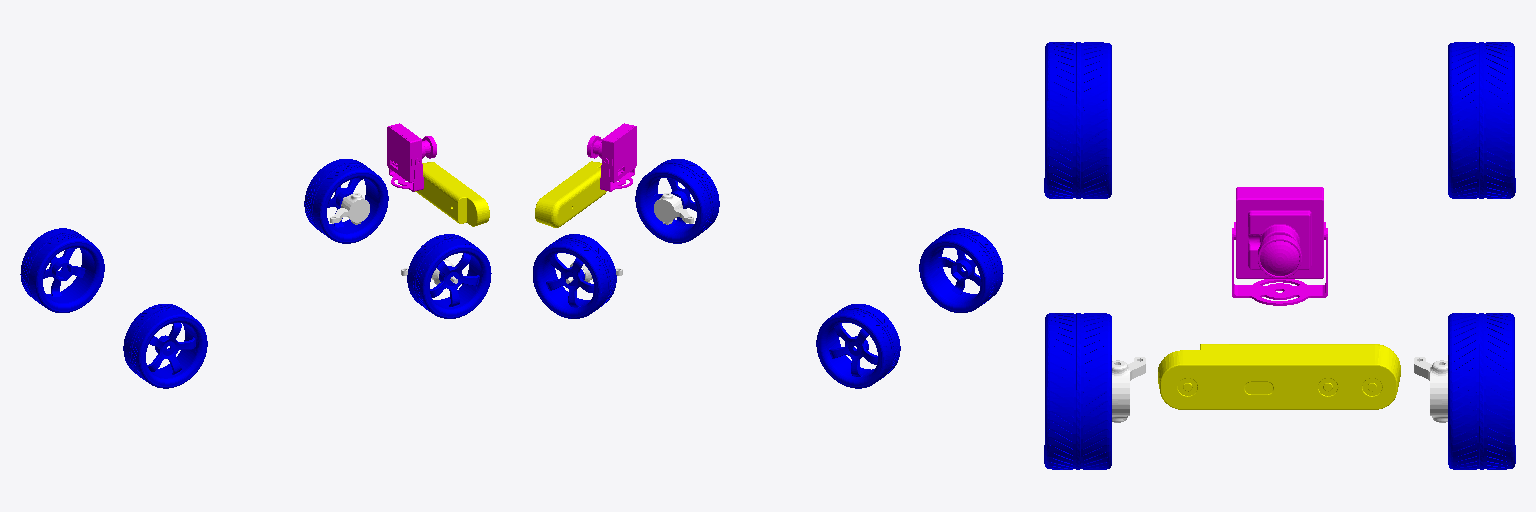
URDF robot description (tianracer_description):
<?xml version="1.0" encoding="utf-8"?>
<!-- This URDF was automatically created by SolidWorks to URDF Exporter! Originally created by [author] ([email redacted]) 
     Commit Version: 1.5.1-0-g916b5db  Build Version: 1.5.7152.31018
     For more information, please see http://wiki.ros.org/sw_urdf_exporter -->
<robot
  name="tianracer_description">
  <link
    name="base_footprint">
  </link>
  <joint name="base_footprint_to_base_link" type="fixed">
    <parent link="base_footprint" />
    <child link="base_link" />
    <origin xyz="0 0 0.0315" rpy="0 0 0"/>
  </joint>
  
  <link
    name="base_link">
    <inertial>
      <origin
        xyz="0.15109 0.0014408 0.0090037"
        rpy="0 0 0" />
      <mass
        value="1.0055" />
      <inertia
        ixx="0.00079171"
        ixy="-2.085E-06"
        ixz="-2.3714E-06"
        iyy="0.0017653"
        iyz="-2.5765E-06"
        izz="0.0022712" />
    </inertial>
    <visual>
      <origin
        xyz="0 0 0"
        rpy="0 0 0" />
      <geometry>
        <mesh
          filename="package://tianracer_description/meshes/base_link.STL" />
      </geometry>
      <material
        name="">
        <color
          rgba="0.2 0.2 0.2 1." />
      </material>
    </visual>
    <collision>
      <origin
        xyz="0 0 0"
        rpy="0 0 0" />
      <geometry>
        <mesh
          filename="package://tianracer_description/meshes/base_link.STL" />
      </geometry>
    </collision>
  </link>

  <link
    name="imu_link">
  </link>
  <joint name="base_link_to_imu" type="fixed">
    <parent link="base_link" />
    <child link="imu_link" />
    <origin xyz="0.22 0 0.1" rpy="0 0 0"/>
  </joint>


  <link
    name="left_steering_hinge">
    <inertial>
      <origin
        xyz="-0.0014513 0.003924 2.0468E-05"
        rpy="0 0 0" />
      <mass
        value="0.0061423" />
      <inertia
        ixx="4.3339E-07"
        ixy="-8.0888E-08"
        ixz="-4.2207E-10"
        iyy="4.2046E-07"
        iyz="-7.7599E-10"
        izz="5.6934E-07" />
    </inertial>
    <visual>
      <origin
        xyz="0 0 0"
        rpy="0 0 0" />
      <geometry>
        <mesh
          filename="package://tianracer_description/meshes/left_steering_hinge.STL" />
      </geometry>
      <material
        name="">
        <color
          rgba="1 1 1 1" />
      </material>
    </visual>
    <collision>
      <origin
        xyz="0 0 0"
        rpy="0 0 0" />
      <geometry>
        <mesh
          filename="package://tianracer_description/meshes/left_steering_hinge.STL" />
      </geometry>
    </collision>
  </link>
  <joint
    name="left_steering_hinge_joint"
    type="revolute">
    <origin
      xyz="0.261 0.065908 0.00013167"
      rpy="0 0 0" />
    <parent
      link="base_link" />
    <child
      link="left_steering_hinge" />
    <axis
      xyz="0 0.0052138 -0.99999" />
    <limit
      lower="-1"
      upper="1"
      effort="10"
      velocity="1000" />
  </joint>
  <link
    name="left_front_wheel">
    <inertial>
      <origin
        xyz="1.1838E-05 0.00072236 -8.4463E-06"
        rpy="0 0 0" />
      <mass
        value="0.038234" />
      <inertia
        ixx="1.6559E-05"
        ixy="-3.8872E-09"
        ixz="-2.4862E-11"
        iyy="2.8875E-05"
        iyz="6.8224E-08"
        izz="1.656E-05" />
    </inertial>
    <visual>
      <origin
        xyz="0 0 0"
        rpy="0 0 0" />
      <geometry>
        <mesh
          filename="package://tianracer_description/meshes/left_front_wheel.STL" />
      </geometry>
      <material
        name="">
        <color
          rgba="0 0 1 1" />
      </material>
    </visual>
    <collision>
      <origin
        xyz="0 0 0"
        rpy="0 0 0" />
      <geometry>
        <mesh
          filename="package://tianracer_description/meshes/left_front_wheel.STL" />
      </geometry>
    </collision>
  </link>
  <joint
    name="left_front_wheel_joint"
    type="continuous">
    <origin
      xyz="0 0.015648 8.1589E-05"
      rpy="0 0 0" />
    <parent
      link="left_steering_hinge" />
    <child
      link="left_front_wheel" />
    <axis
      xyz="0 0.99999 0.0052138" />
    <limit
      effort="10"
      velocity="1000" />
  </joint>
  <link
    name="right_steering_hinge">
    <inertial>
      <origin
        xyz="-0.0014513 -0.003924 2.045E-05"
        rpy="0 0 0" />
      <mass
        value="0.0061423" />
      <inertia
        ixx="4.3339E-07"
        ixy="8.0888E-08"
        ixz="-4.2139E-10"
        iyy="4.2046E-07"
        iyz="7.765E-10"
        izz="5.6934E-07" />
    </inertial>
    <visual>
      <origin
        xyz="0 0 0"
        rpy="0 0 0" />
      <geometry>
        <mesh
          filename="package://tianracer_description/meshes/right_steering_hinge.STL" />
      </geometry>
      <material
        name="">
        <color
          rgba="1 1 1 1" />
      </material>
    </visual>
    <collision>
      <origin
        xyz="0 0 0"
        rpy="0 0 0" />
      <geometry>
        <mesh
          filename="package://tianracer_description/meshes/right_steering_hinge.STL" />
      </geometry>
    </collision>
  </link>
  <joint
    name="right_steering_hinge_joint"
    type="revolute">
    <origin
      xyz="0.261 -0.065908 0.00013167"
      rpy="0 0 0" />
    <parent
      link="base_link" />
    <child
      link="right_steering_hinge" />
    <axis
      xyz="0 -0.0052138 -0.99999" />
    <limit
      lower="-1"
      upper="1"
      effort="10"
      velocity="1000" />
  </joint>
  <link
    name="right_front_wheel">
    <inertial>
      <origin
        xyz="4.5905E-06 -0.00072221 2.0143E-05"
        rpy="0 0 0" />
      <mass
        value="0.038234" />
      <inertia
        ixx="1.6559E-05"
        ixy="1.5072E-09"
        ixz="-3.177E-11"
        iyy="2.8875E-05"
        iyz="-5.8837E-08"
        izz="1.6559E-05" />
    </inertial>
    <visual>
      <origin
        xyz="0 0 0"
        rpy="0 0 0" />
      <geometry>
        <mesh
          filename="package://tianracer_description/meshes/right_front_wheel.STL" />
      </geometry>
      <material
        name="">
        <color
          rgba="0 0 1 1" />
      </material>
    </visual>
    <collision>
      <origin
        xyz="0 0 0"
        rpy="0 0 0" />
      <geometry>
        <mesh
          filename="package://tianracer_description/meshes/right_front_wheel.STL" />
      </geometry>
    </collision>
  </link>
  <joint
    name="right_front_wheel_joint"
    type="continuous">
    <origin
      xyz="0 -0.015648 8.1589E-05"
      rpy="0 0 0" />
    <parent
      link="right_steering_hinge" />
    <child
      link="right_front_wheel" />
    <axis
      xyz="0 -0.99999 0.0052138" />
    <limit
      effort="10"
      velocity="1000" />
  </joint>
  <link
    name="left_rear_wheel">
    <inertial>
      <origin
        xyz="-3.6783E-06 0.00072222 1.9905E-05"
        rpy="0 0 0" />
      <mass
        value="0.038234" />
      <inertia
        ixx="1.6559E-05"
        ixy="1.2077E-09"
        ixz="3.1596E-11"
        iyy="2.8875E-05"
        iyz="5.0811E-08"
        izz="1.6559E-05" />
    </inertial>
    <visual>
      <origin
        xyz="0 0 0"
        rpy="0 0 0" />
      <geometry>
        <mesh
          filename="package://tianracer_description/meshes/left_rear_wheel.STL" />
      </geometry>
      <material
        name="">
        <color
          rgba="0 0 1 1" />
      </material>
    </visual>
    <collision>
      <origin
        xyz="0 0 0"
        rpy="0 0 0" />
      <geometry>
        <mesh
          filename="package://tianracer_description/meshes/left_rear_wheel.STL" />
      </geometry>
    </collision>
  </link>
  <joint
    name="left_rear_wheel_joint"
    type="continuous">
    <origin
      xyz="0 0.081571 -5.1856E-05"
      rpy="0 0 0" />
    <parent
      link="base_link" />
    <child
      link="left_rear_wheel" />
    <axis
      xyz="0 -0.99999 0.0045683" />
    <limit
      effort="10"
      velocity="1000" />
  </joint>
  <link
    name="right_rear_wheel">
    <inertial>
      <origin
        xyz="1.1359E-10 -0.00072222 2.0308E-05"
        rpy="0 0 0" />
      <mass
        value="0.038234" />
      <inertia
        ixx="1.6559E-05"
        ixy="-1.3368E-13"
        ixz="-3.1319E-11"
        iyy="2.8875E-05"
        iyz="-5.0679E-08"
        izz="1.6559E-05" />
    </inertial>
    <visual>
      <origin
        xyz="0 0 0"
        rpy="0 0 0" />
      <geometry>
        <mesh
          filename="package://tianracer_description/meshes/right_rear_wheel.STL" />
      </geometry>
      <material
        name="">
        <color
          rgba="0 0 1 1" />
      </material>
    </visual>
    <collision>
      <origin
        xyz="0 0 0"
        rpy="0 0 0" />
      <geometry>
        <mesh
          filename="package://tianracer_description/meshes/right_rear_wheel.STL" />
      </geometry>
    </collision>
  </link>
  <joint
    name="right_rear_wheel_joint"
    type="continuous">
    <origin
      xyz="0 -0.081571 -5.1856E-05"
      rpy="0 0 0" />
    <parent
      link="base_link" />
    <child
      link="right_rear_wheel" />
    <axis
      xyz="0 -0.99999 0.0045683" />
    <limit
      effort="10"
      velocity="1000" />
  </joint>
  <link
    name="laser">
    <inertial>
      <origin
        xyz="-0.012047 0.0025422 -0.019185"
        rpy="0 0 0" />
      <mass
        value="0.079219" />
      <inertia
        ixx="2.1054E-05"
        ixy="-4.2641E-08"
        ixz="4.2347E-07"
        iyy="2.5122E-05"
        iyz="-1.5622E-08"
        izz="4.3824E-05" />
    </inertial>
    <visual>
      <origin
        xyz="0 0 0"
        rpy="0 0 3.1415926535" />
      <geometry>
        <mesh
          filename="package://tianracer_description/meshes/laser.STL" />
      </geometry>
      <material
        name="">
        <color
          rgba="0.79216 0.81961 0.93333 1" />
      </material>
    </visual>
    <collision>
      <origin
        xyz="0 0 0"
        rpy="0 0 0" />
      <geometry>
        <mesh
          filename="package://tianracer_description/meshes/laser.STL" />
      </geometry>
    </collision>
  </link>
  <joint
    name="laser_joint"
    type="fixed">
    <origin
      xyz="0.22409 -0.0018403 0.1004"
      rpy="0 0 3.1415926535" />
    <parent
      link="base_link" />
    <child
      link="laser" />
    <axis
      xyz="0 0 0" />
  </joint>
  <link
    name="camera_link">
    <inertial>
      <origin
        xyz="-0.0083147 0.00029786 -0.00080969"
        rpy="0 0 0" />
      <mass
        value="0.020388" />
      <inertia
        ixx="4.0788E-06"
        ixy="-1.2871E-08"
        ixz="-1.6587E-08"
        iyy="3.1757E-06"
        iyz="-1.5271E-08"
        izz="2.9854E-06" />
    </inertial>
    <visual>
      <origin
        xyz="0 0 0"
        rpy="0 0 0" />
      <geometry>
        <mesh
          filename="package://tianracer_description/meshes/camera.STL" />
      </geometry>
      <material
        name="">
        <color
          rgba="1 0 1 1" />
      </material>
    </visual>
    <collision>
      <origin
        xyz="0 0 0"
        rpy="0 0 0" />
      <geometry>
        <mesh
          filename="package://tianracer_description/meshes/camera.STL" />
      </geometry>
    </collision>
  </link>
  <joint
    name="camera_joint"
    type="fixed">
    <origin
      xyz="0.27903 -0.00038675 0.074128"
      rpy="0 0 0" />
    <parent
      link="base_link" />
    <child
      link="camera_link" />
    <axis
      xyz="0 0 0" />
  </joint>
  <link
    name="real_sense">
    <inertial>
      <origin
        xyz="-0.0096916 0.0032432 -7.0438E-05"
        rpy="0 0 0" />
      <mass
        value="0.10331" />
      <inertia
        ixx="7.3623E-05"
        ixy="1.8002E-06"
        ixz="2.0488E-08"
        iyy="7.3133E-06"
        iyz="-1.969E-08"
        izz="7.2833E-05" />
    </inertial>
    <visual>
      <origin
        xyz="0 0 0"
        rpy="0 0 0" />
      <geometry>
        <mesh
          filename="package://tianracer_description/meshes/real_sense.STL" />
      </geometry>
      <material
        name="">
        <color
          rgba="1 1 0 1" />
      </material>
    </visual>
    <collision>
      <origin
        xyz="0 0 0"
        rpy="0 0 0" />
      <geometry>
        <mesh
          filename="package://tianracer_description/meshes/real_sense.STL" />
      </geometry>
    </collision>
  </link>
  <joint
    name="real_sense_joint"
    type="fixed">
    <origin
      xyz="0.3174 -0.00091529 0.028349"
      rpy="0 0 0" />
    <parent
      link="base_link" />
    <child
      link="real_sense" />
    <axis
      xyz="0 0 0" />
  </joint>
</robot>

--- Facts derived from the render (not from the file) ---
3 views of the same robot in one strip: view 1: azimuth 30°, elevation 25°; view 2: azimuth 150°, elevation 25°; view 3: azimuth 270°, elevation 25° (orthographic).
Robot: tianracer_description — 12 links, 11 joints (2 revolute, 4 continuous, 5 fixed); root link base_footprint; default pose: every joint at zero.
Links seen in each view (by area): view 1: right_rear_wheel, left_rear_wheel, right_front_wheel, left_front_wheel, real_sense, camera_link, left_steering_hinge; view 2: left_rear_wheel, right_rear_wheel, left_front_wheel, right_front_wheel, real_sense, camera_link, right_steering_hinge; view 3: real_sense, right_front_wheel, left_rear_wheel, left_front_wheel, right_rear_wheel, camera_link, left_steering_hinge, right_steering_hinge.
Boxes of the visible links, x1=… form: right_rear_wheel: x1=123, y1=304, x2=207, y2=388; left_rear_wheel: x1=20, y1=228, x2=104, y2=312; right_front_wheel: x1=407, y1=234, x2=491, y2=318; left_front_wheel: x1=304, y1=159, x2=388, y2=243; real_sense: x1=415, y1=162, x2=489, y2=226; camera_link: x1=387, y1=123, x2=436, y2=191; left_steering_hinge: x1=330, y1=193, x2=369, y2=224; left_rear_wheel: x1=816, y1=304, x2=900, y2=388; right_rear_wheel: x1=919, y1=228, x2=1003, y2=312; left_front_wheel: x1=533, y1=234, x2=616, y2=318; right_front_wheel: x1=635, y1=159, x2=719, y2=243; real_sense: x1=535, y1=161, x2=606, y2=227; camera_link: x1=587, y1=123, x2=636, y2=191; right_steering_hinge: x1=654, y1=193, x2=693, y2=224; real_sense: x1=1158, y1=344, x2=1400, y2=409; right_front_wheel: x1=1044, y1=313, x2=1111, y2=469; left_rear_wheel: x1=1448, y1=42, x2=1515, y2=198; left_front_wheel: x1=1448, y1=313, x2=1515, y2=469; right_rear_wheel: x1=1044, y1=42, x2=1111, y2=198; camera_link: x1=1232, y1=187, x2=1327, y2=305; left_steering_hinge: x1=1414, y1=357, x2=1447, y2=422; right_steering_hinge: x1=1112, y1=357, x2=1145, y2=422.
Bounding box of the posed robot: 0.3494 × 0.1914 × 0.1242 m (x, y, z).
8 mesh visuals loaded from 10 distinct referenced files (8 binary STL); not drawn: 2 (reference not matched to a file when rendering).
